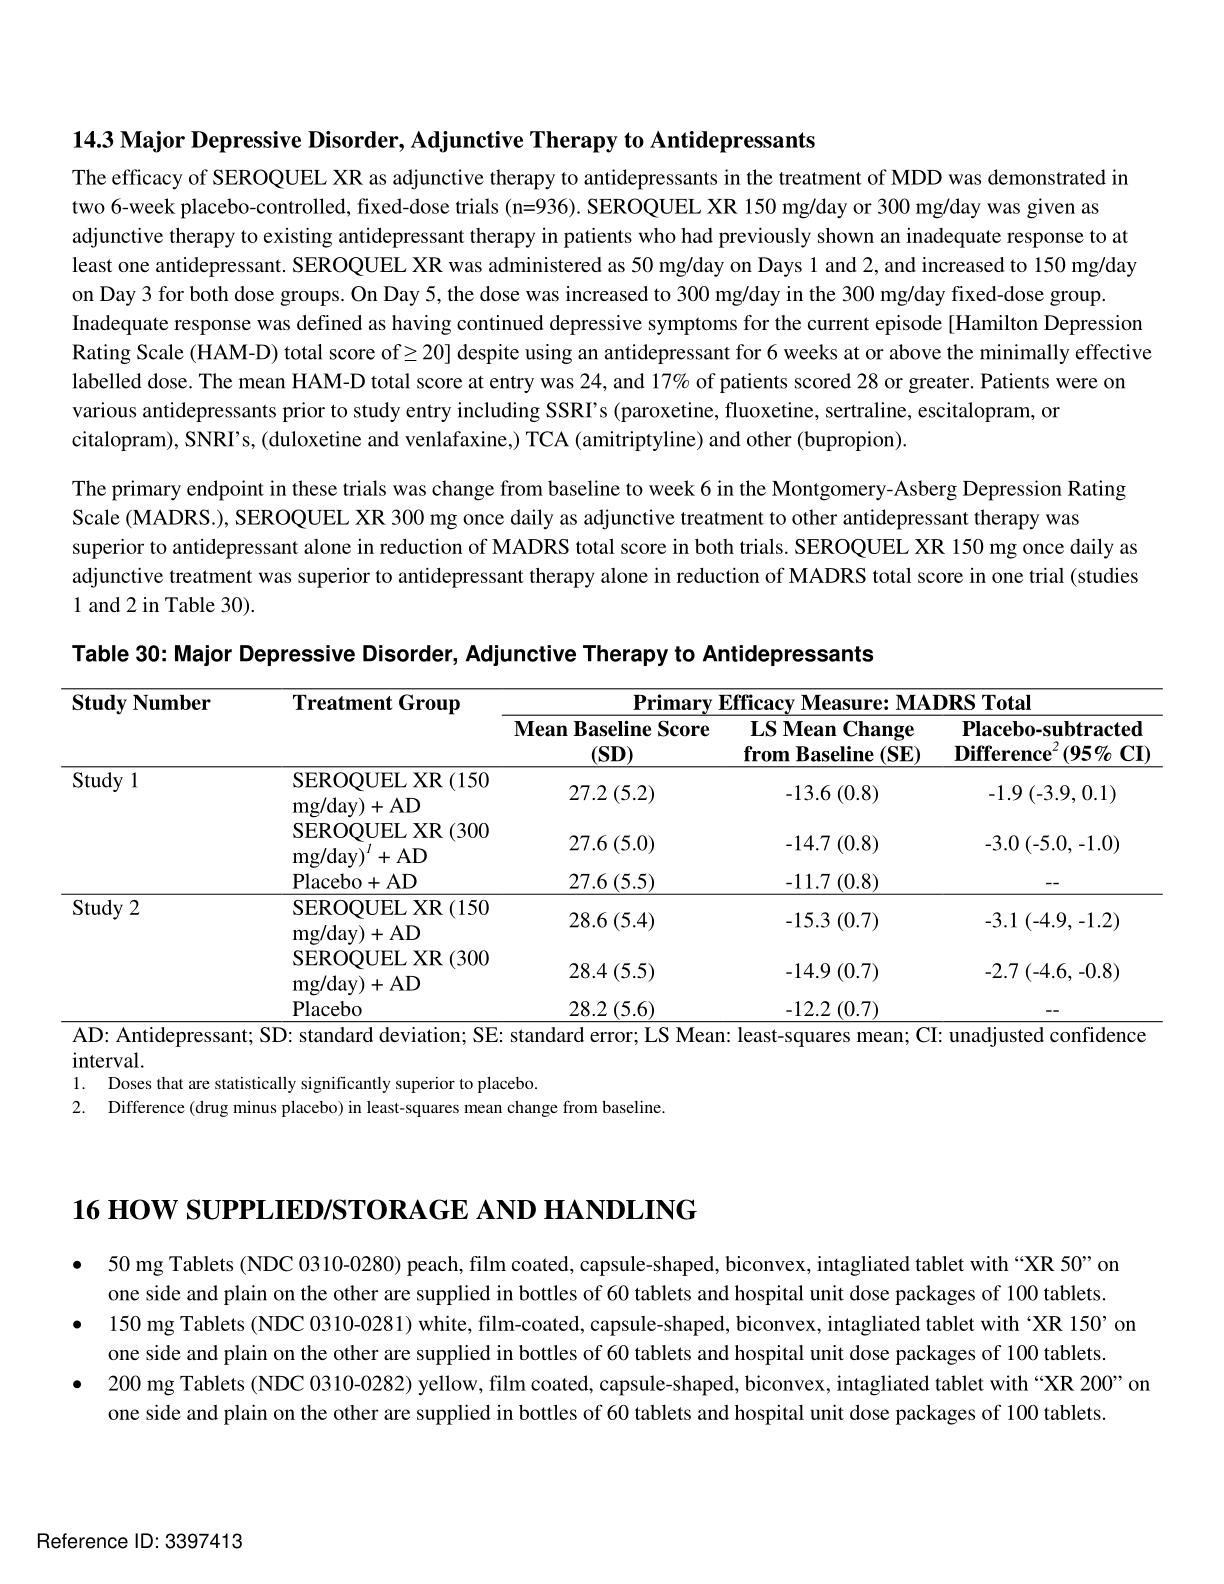partial_lined_merged_cells: (60, 687, 1165, 1023)
